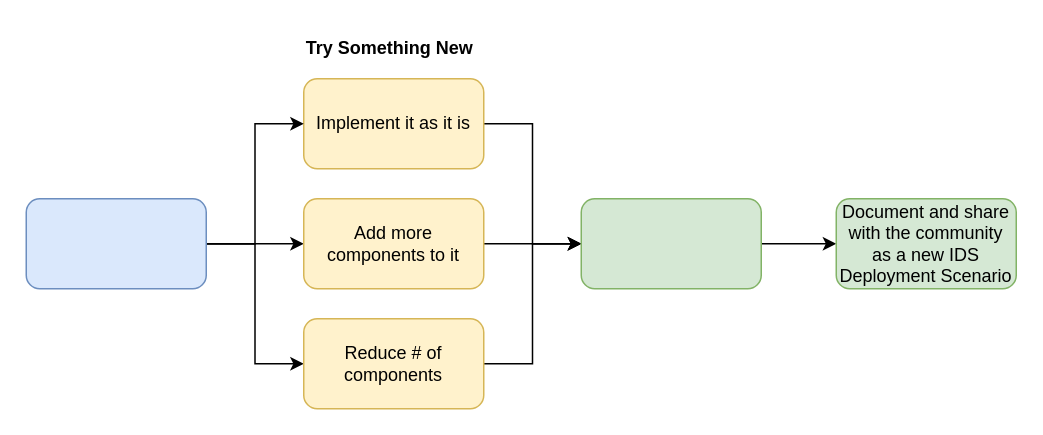
This 1043x435 diagram has some shape labels left out. The centre of each missing label's shape, as x and y in pixels:
"Choose an IDS Deployment Scenario (or go with MVDS)" belongs at (115,243).
"Create your own experiment (IDS Deployment Scenario)" belongs at (670,243).
